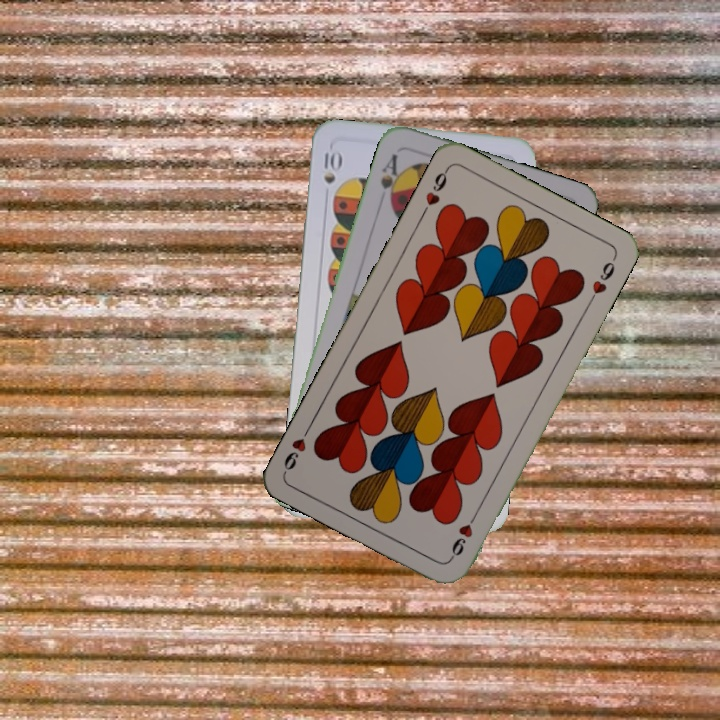H9: (445, 508, 481, 562), (417, 164, 452, 218)
S10: (320, 146, 342, 187)
SA: (376, 149, 405, 209)
